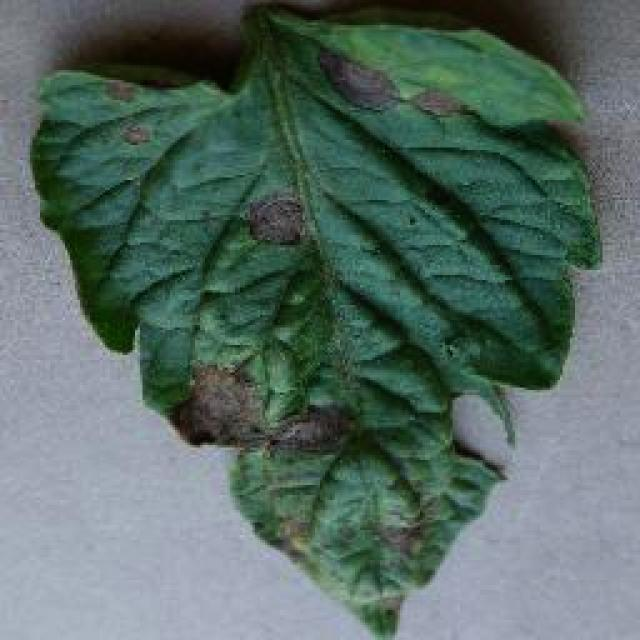Tomato Early blight leaf: (22, 0, 605, 634)
